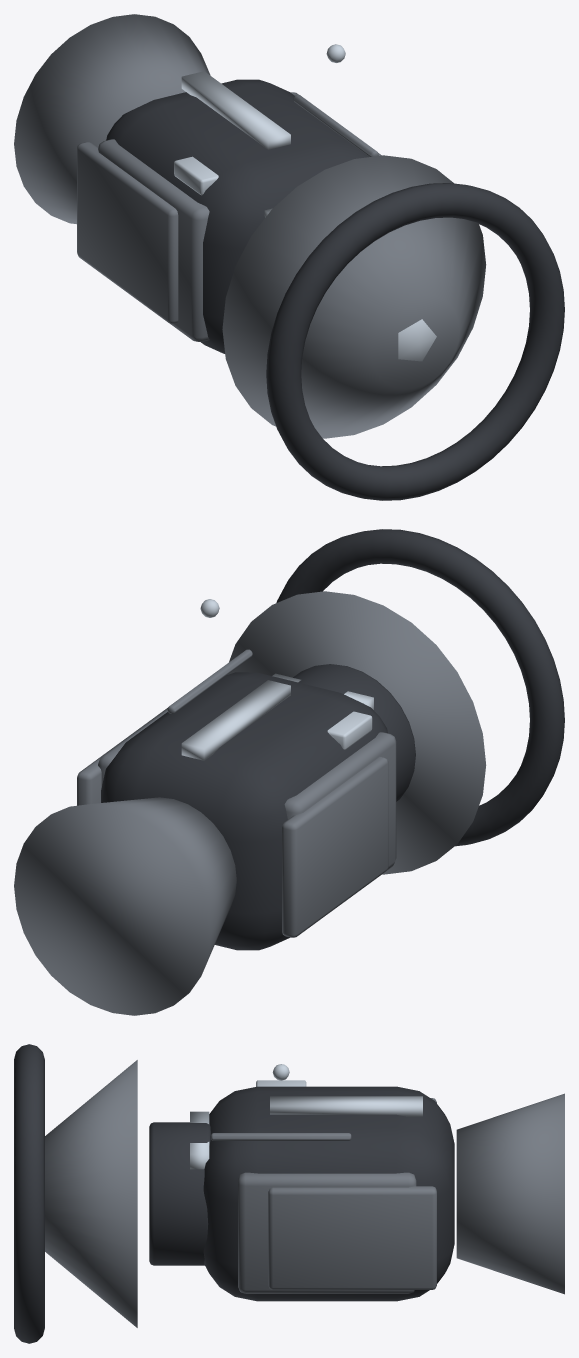
The model's file is weapon_drone_volt_nova.glb.
3 renders of one model, top to bottom at view 1: azimuth 30°, elevation 25°; view 2: azimuth 150°, elevation 25°; view 3: azimuth 270°, elevation 25°, orthographic. The views are drawn at different scales.
Visible parts, largest first — view 1: weapon_drone_volt_nova; view 2: weapon_drone_volt_nova; view 3: weapon_drone_volt_nova.
Boxes of the visible parts, x1,y1,x2,y2 form: weapon_drone_volt_nova: [14, 14, 564, 500]; weapon_drone_volt_nova: [14, 529, 564, 1015]; weapon_drone_volt_nova: [14, 1044, 564, 1343].
Bounding box in the file's own units: 0.776 × 0.8348 × 1.43.
